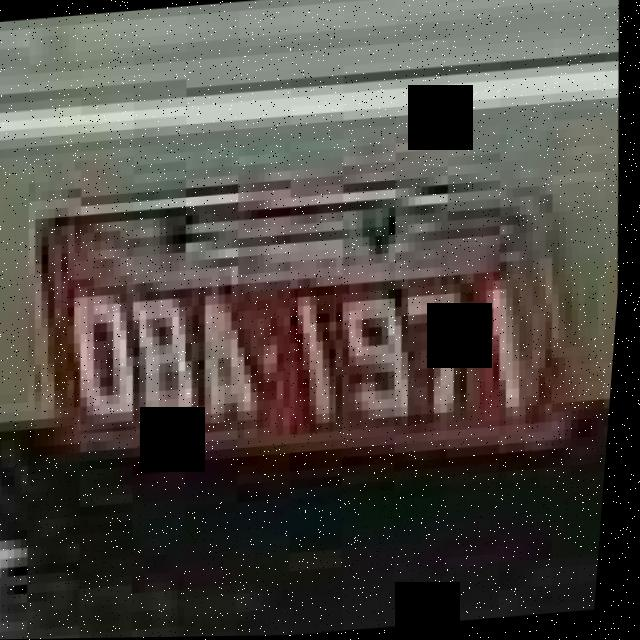0: (74, 282, 149, 431)
1: (290, 286, 348, 436), (482, 275, 540, 423)
7: (403, 275, 493, 426)
9: (342, 282, 418, 433)
A: (193, 277, 272, 438)
B: (132, 287, 209, 434)
